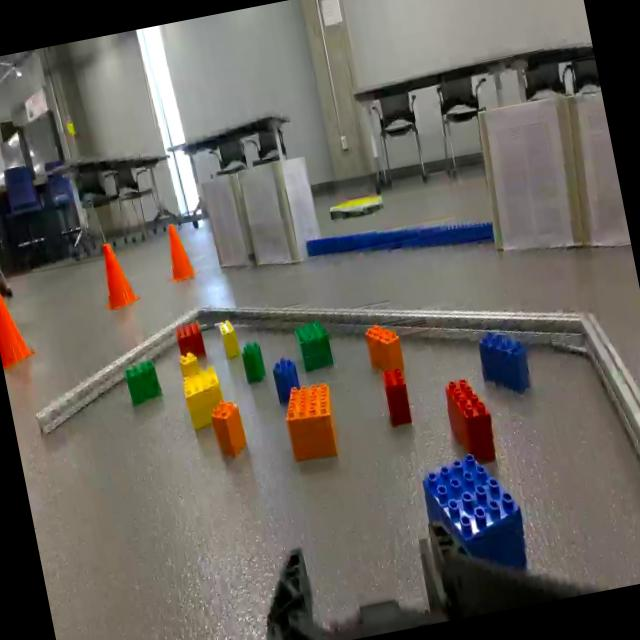block: (182, 366, 227, 429), (218, 318, 242, 360), (176, 348, 202, 378)
blue: (414, 442, 533, 590), (474, 321, 536, 405), (272, 354, 304, 406)
cone: (93, 240, 143, 314), (0, 279, 37, 371), (157, 221, 200, 286)
green: (293, 316, 335, 374), (121, 355, 166, 409), (240, 338, 269, 387)
metal barrier: (36, 304, 640, 467)
orange: (279, 378, 344, 470), (362, 316, 408, 379), (210, 393, 250, 462)
red goal: (439, 372, 502, 469), (380, 366, 414, 428), (175, 322, 205, 358)
river: (306, 218, 496, 254)
storage cube: (472, 96, 588, 262), (561, 84, 632, 256), (237, 157, 327, 270), (200, 174, 257, 275)
yellow goal: (326, 192, 386, 225)
